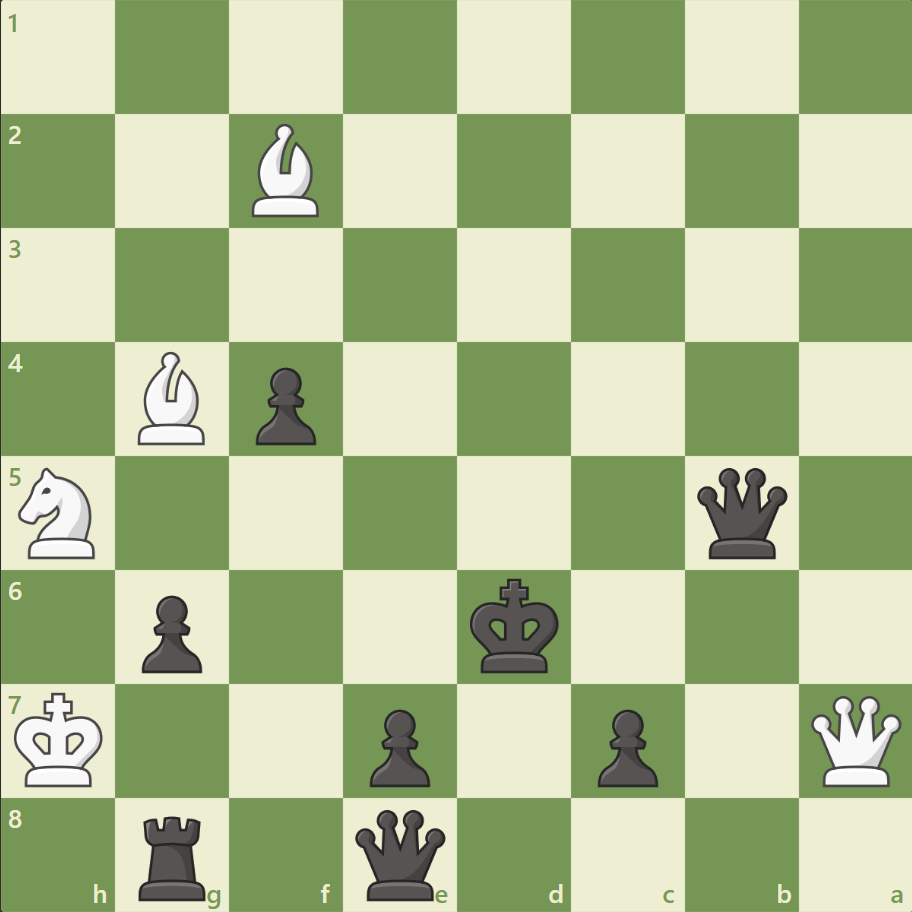B: (131, 347, 215, 449), (244, 120, 328, 222)
K: (11, 685, 111, 793)
N: (11, 461, 108, 564)
Q: (805, 690, 904, 789)
k: (465, 571, 565, 679)
p: (133, 586, 208, 677), (247, 359, 322, 450), (588, 700, 662, 791), (361, 700, 435, 791)
q: (351, 804, 450, 903), (691, 463, 790, 562)
r: (133, 806, 215, 904)
